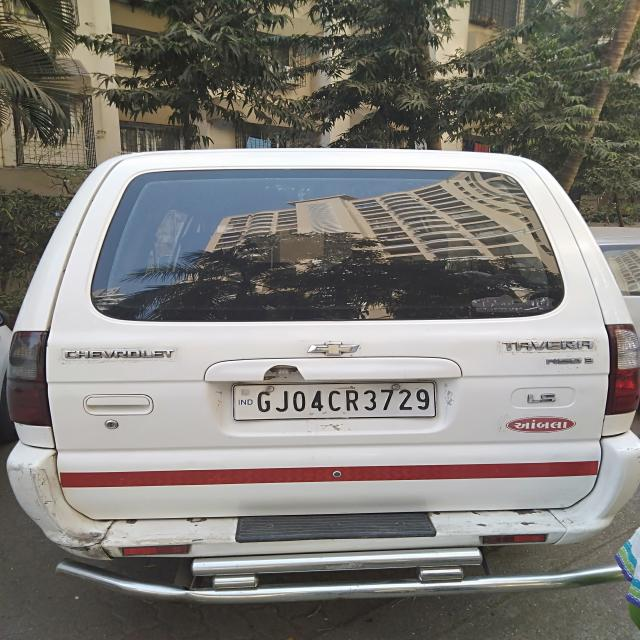Number-Plate: (230, 385, 439, 417)
